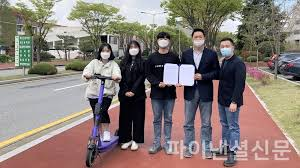kick_wheel: (86, 148, 97, 168)
